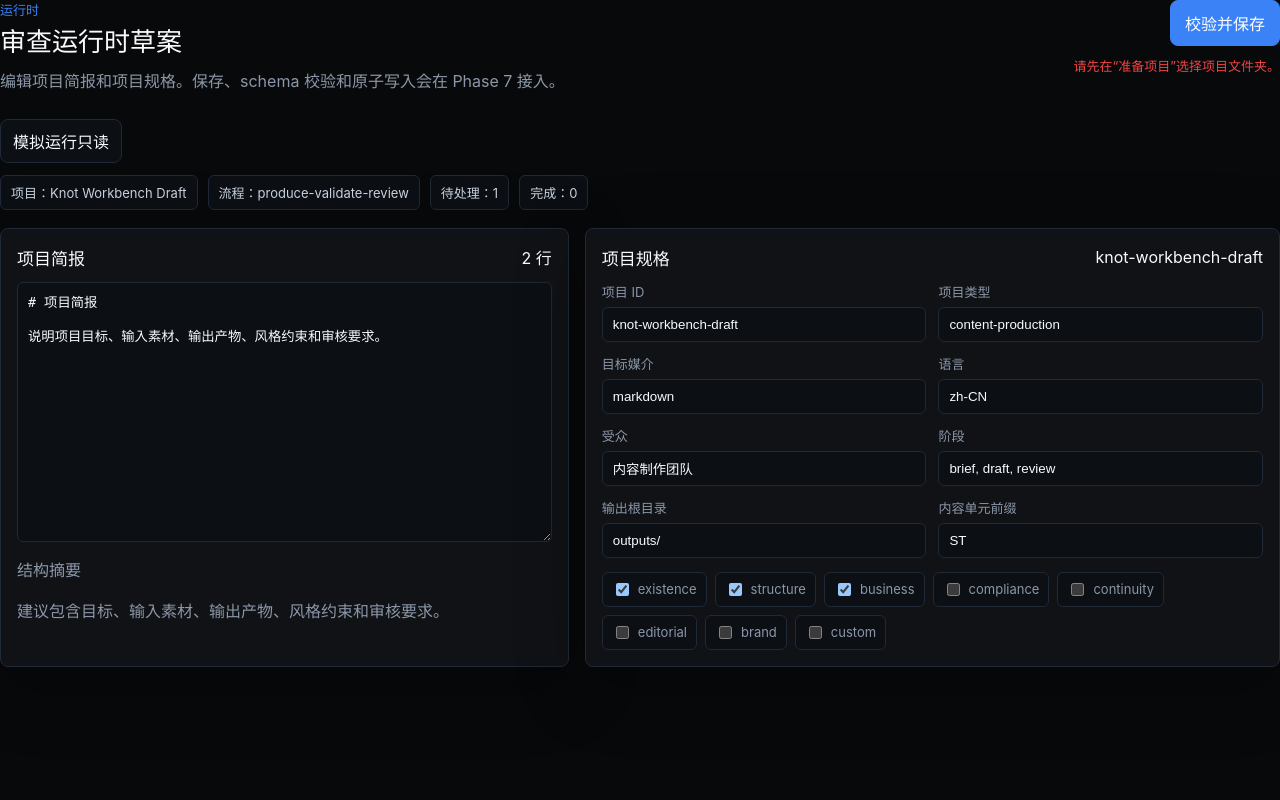
Test: RuntimeView › edits project spec fields and locks them while running
The image size is (1280, 800).
Replace the text in the field labelled "项目 ID" with "content-runtime": (764, 324) [602,307,926,342]
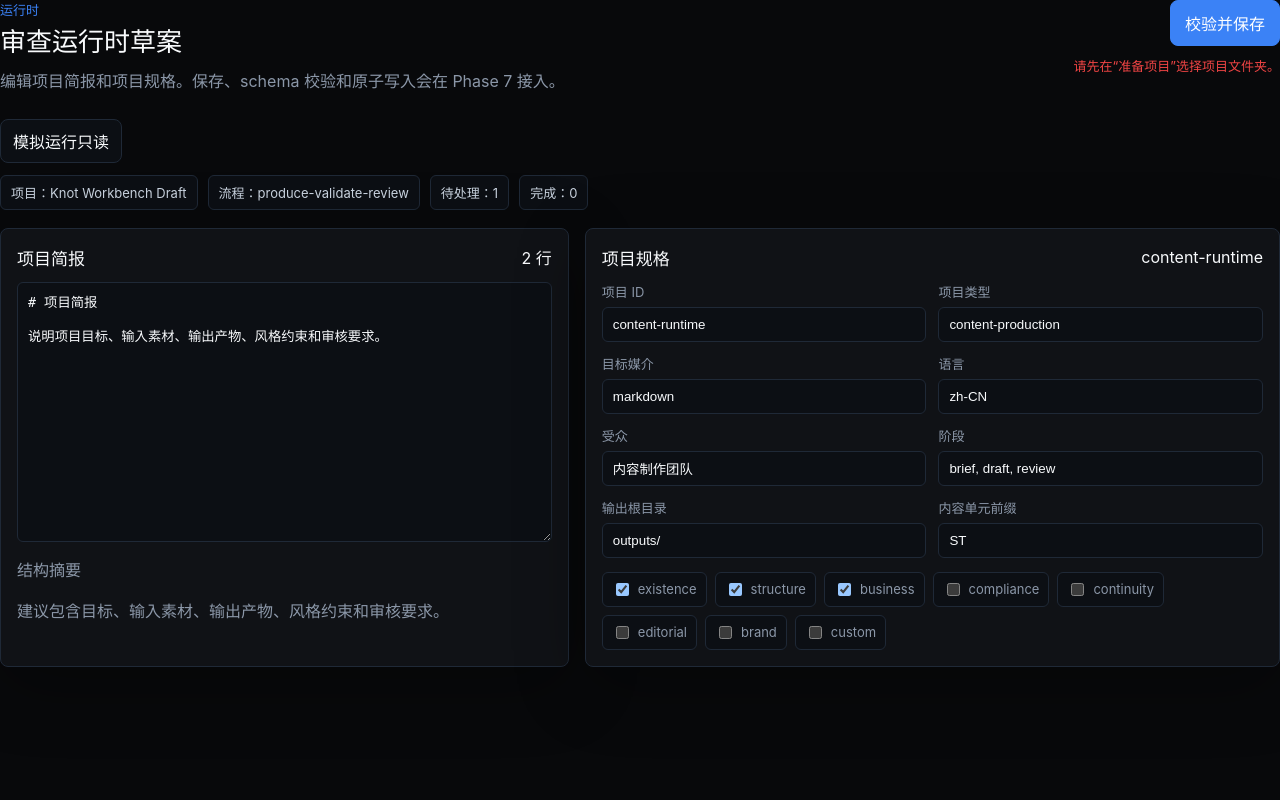
Click the button "模拟运行只读": (61, 141) [0,119,122,163]
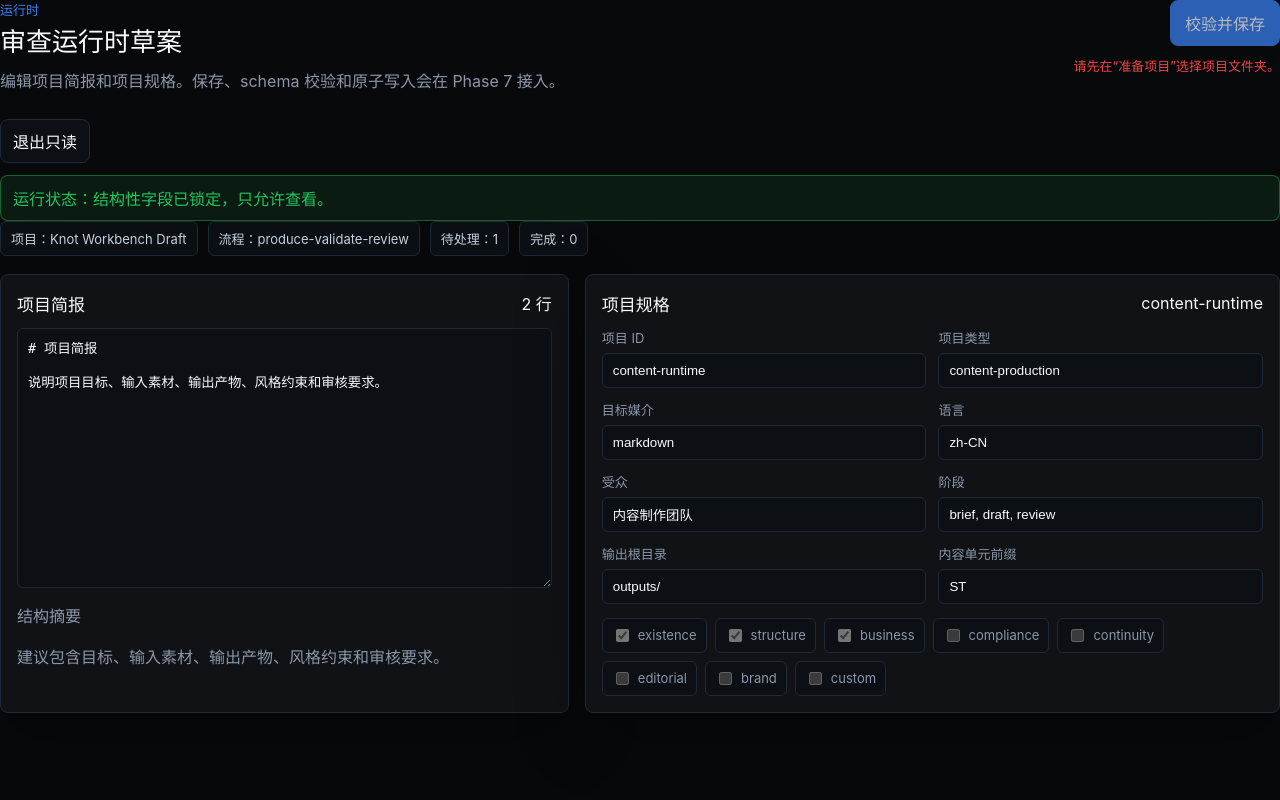
Now the text "运行状态：结构性字段已锁定，只允许查看。" is shown, box [0,175,1279,221]
Now the field labelled "项目 ID" is disabled, box [602,353,926,388]
